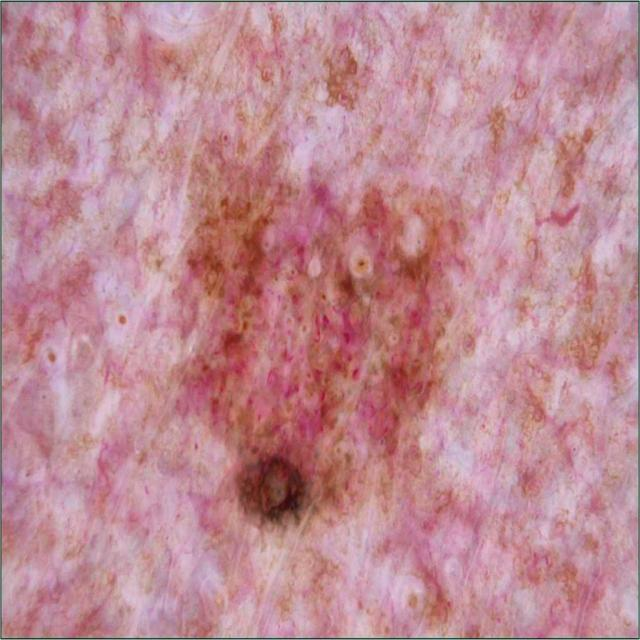Melanocytic-Nevi-NV-: (75, 52, 582, 618)
